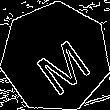M_NW: (23, 23, 88, 91)
